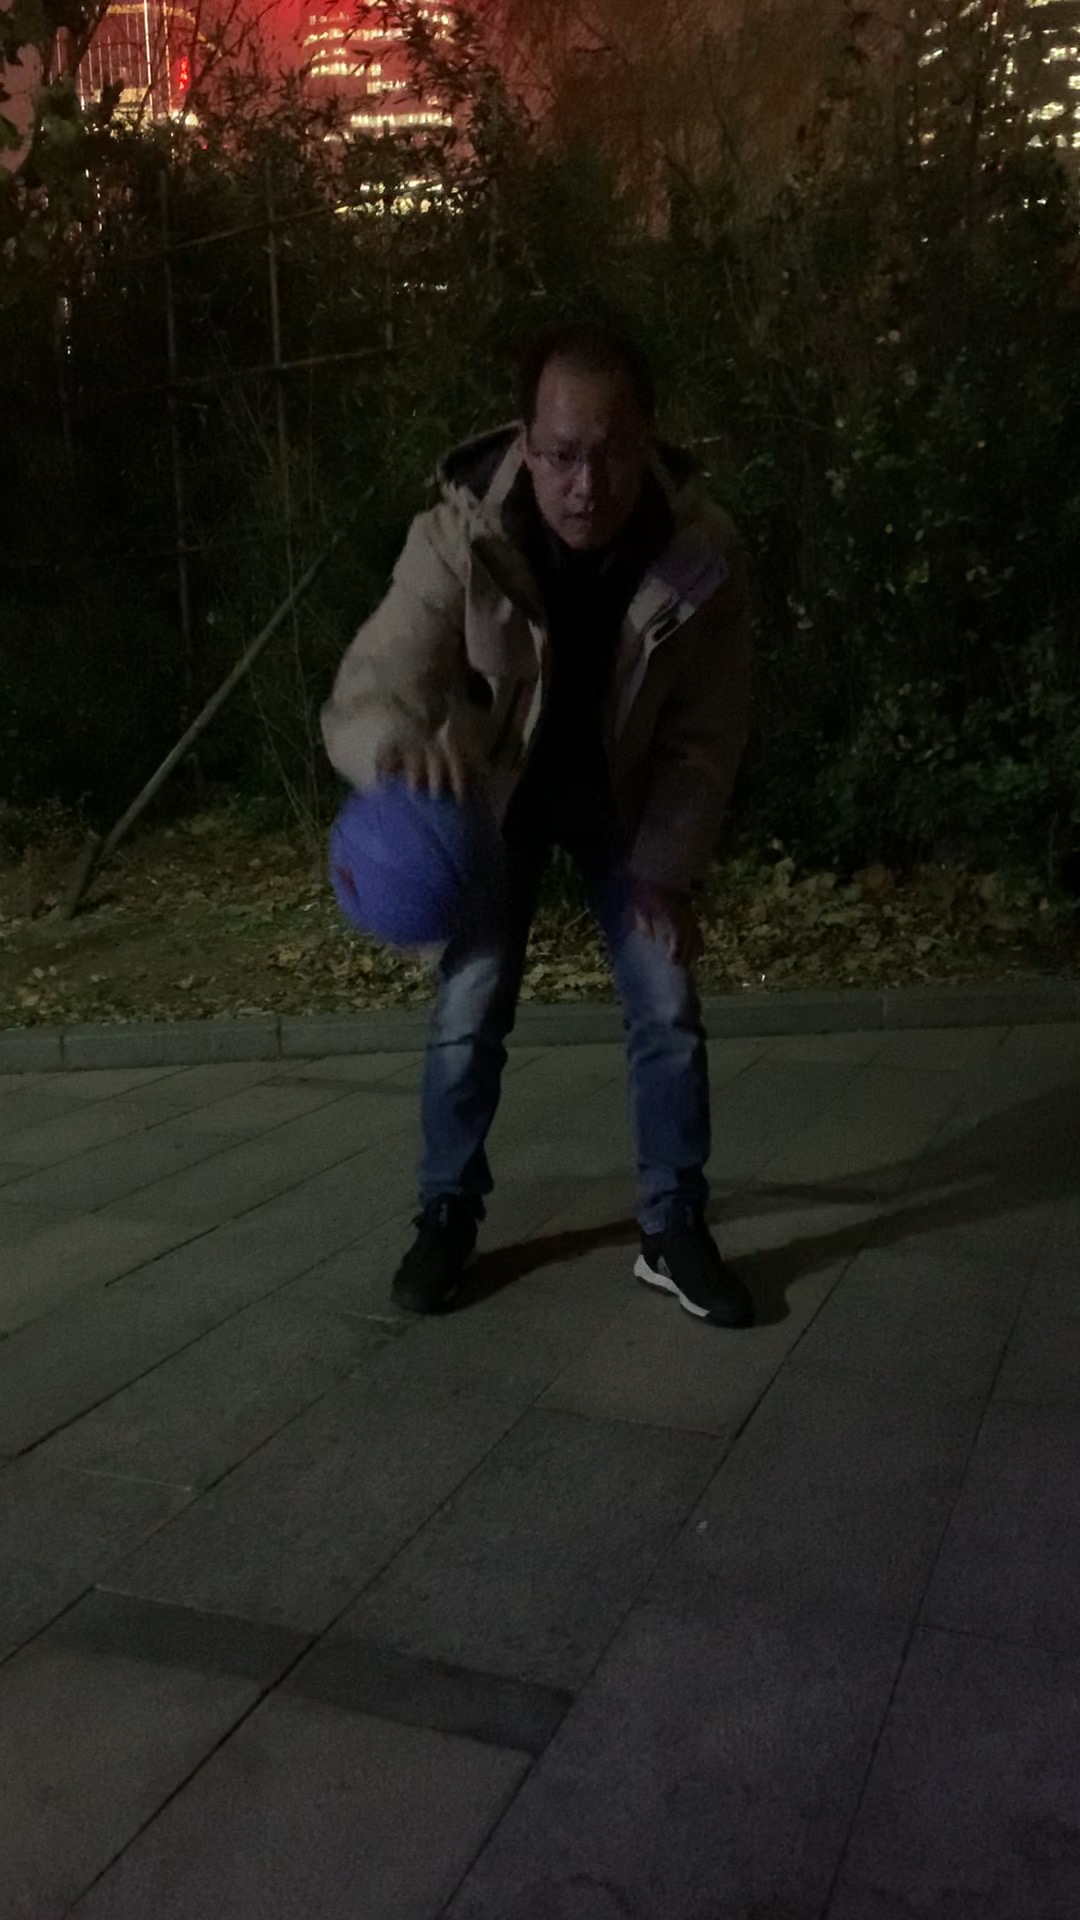ball: (326, 775, 501, 947)
